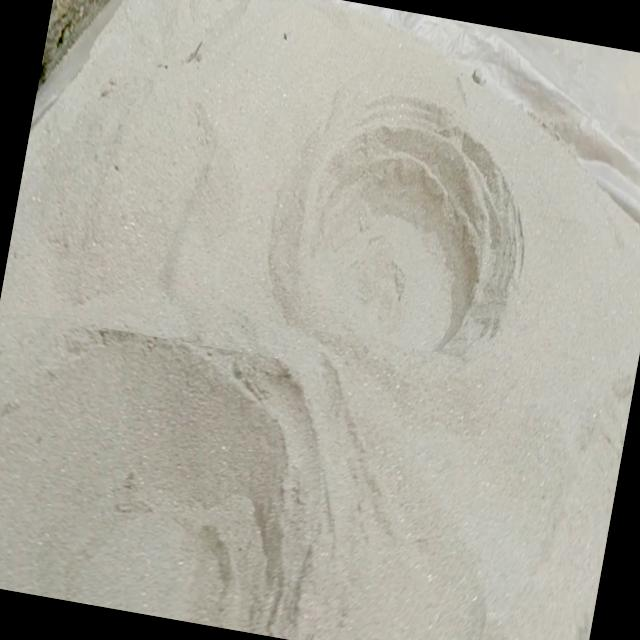C20: (0, 326, 328, 634), (299, 108, 512, 353)
